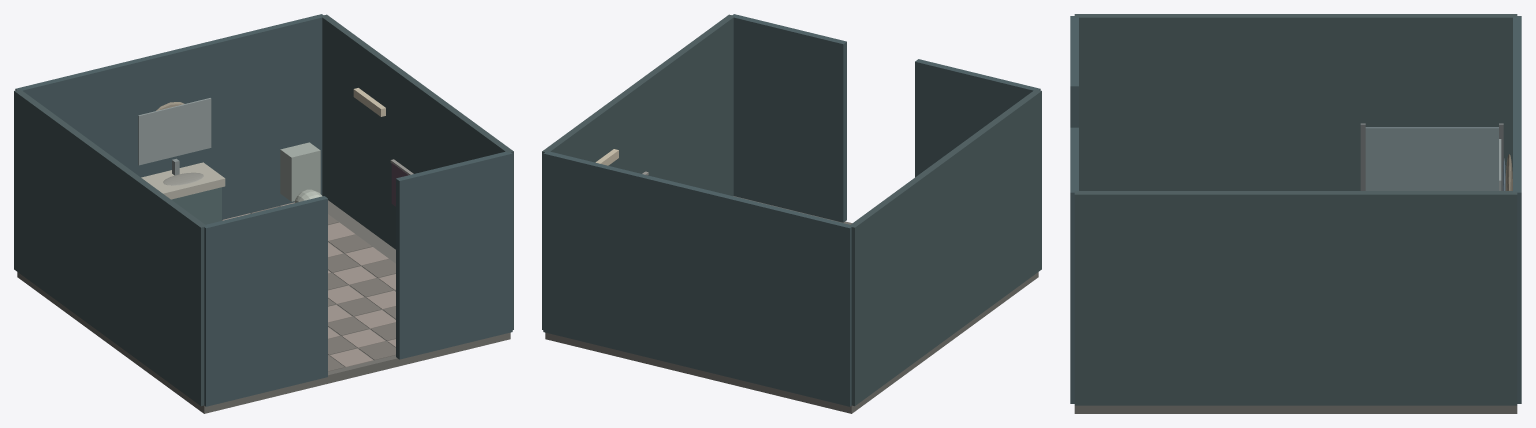
The model's file is banoEmpanado.obj.
The picture shows the model from 3 angles, left to right: view 1: azimuth 30°, elevation 25°; view 2: azimuth 150°, elevation 25°; view 3: azimuth 270°, elevation 25°; orthographic projection. The views are drawn at different scales.
Parts seen in each view (by area): view 1: bathroom_original_10, bathroom_original_12, bathroom_original_13, bathroom_original_14, bathroom_original_11, bathroom_original_decor_000, bathroom_original_9, banoEmpanado_c2_21, bathroom_original_17, bathroom_original_15; view 2: bathroom_original_12, bathroom_original_10, bathroom_original_14, bathroom_original_11, bathroom_original_13, bathroom_original_9, bathroom_original_decor_000; view 3: bathroom_original_11, bathroom_original_10, bathroom_original_decor_010, bathroom_original_9, bathroom_original_12, bathroom_original_14, bathroom_original_13, bathroom_original_decor_000.
Boxes of the visible parts, <box> form: bathroom_original_10: <box>14,89,206,406</box>; bathroom_original_12: <box>15,14,324,219</box>; bathroom_original_13: <box>203,196,327,406</box>; bathroom_original_14: <box>396,151,512,359</box>; bathroom_original_11: <box>321,14,513,329</box>; bathroom_original_decor_000: <box>141,88,413,371</box>; bathroom_original_9: <box>17,200,510,413</box>; banoEmpanado_c2_21: <box>138,98,211,165</box>; bathroom_original_17: <box>280,142,320,201</box>; bathroom_original_15: <box>171,187,221,224</box>; bathroom_original_12: <box>543,151,852,406</box>; bathroom_original_10: <box>849,89,1041,406</box>; bathroom_original_14: <box>732,14,846,222</box>; bathroom_original_11: <box>542,14,734,329</box>; bathroom_original_13: <box>915,59,1040,177</box>; bathroom_original_9: <box>545,196,1038,413</box>; bathroom_original_decor_000: <box>544,149,850,405</box>; bathroom_original_11: <box>1074,191,1517,405</box>; bathroom_original_10: <box>1074,14,1517,190</box>; bathroom_original_decor_010: <box>1365,127,1498,190</box>; bathroom_original_9: <box>1074,405,1517,413</box>; bathroom_original_12: <box>1513,16,1521,403</box>; bathroom_original_14: <box>1070,127,1078,403</box>; bathroom_original_13: <box>1070,16,1078,127</box>; bathroom_original_decor_000: <box>1360,123,1521,402</box>.
Bounding box in the file's own units: 10.82 × 6.18 × 11.42.
